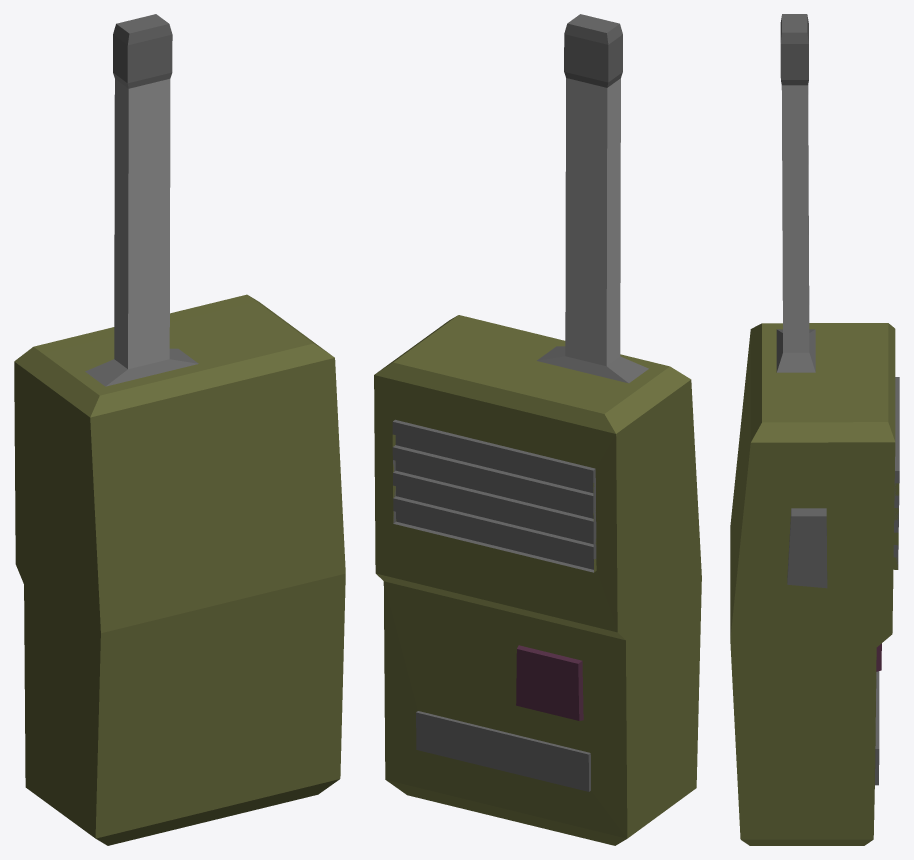
Rendered from radio.fbx.
The picture shows the model from 3 angles, left to right: view 1: azimuth 30°, elevation 25°; view 2: azimuth 150°, elevation 25°; view 3: azimuth 270°, elevation 25°; orthographic projection. The views are drawn at different scales.
Visible parts, largest first — view 1: radio.001; view 2: radio.001; view 3: radio.001.
Boxes of the visible parts, x1=… form: radio.001: x1=14, y1=14, x2=345, y2=845; radio.001: x1=374, y1=14, x2=701, y2=845; radio.001: x1=730, y1=14, x2=899, y2=845.
Size of the model in its own units: 29.18 by 84.1 by 17.16.
